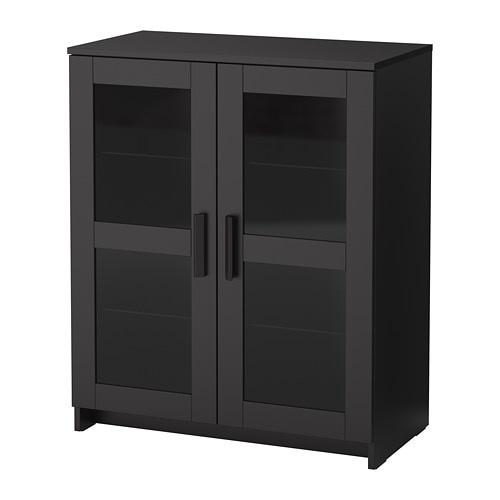cabinet_door: (223, 64, 375, 429), (75, 61, 217, 416)
handle: (192, 210, 211, 282), (222, 213, 239, 282)
